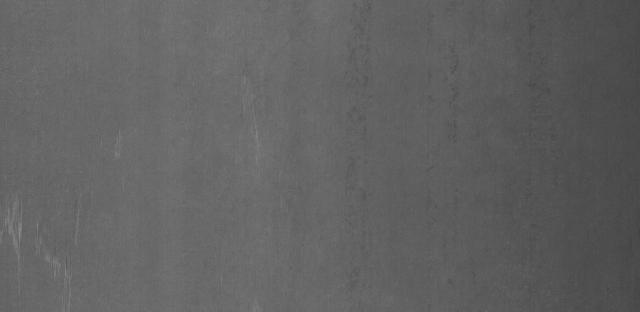silk_spot: (0, 187, 101, 289)
